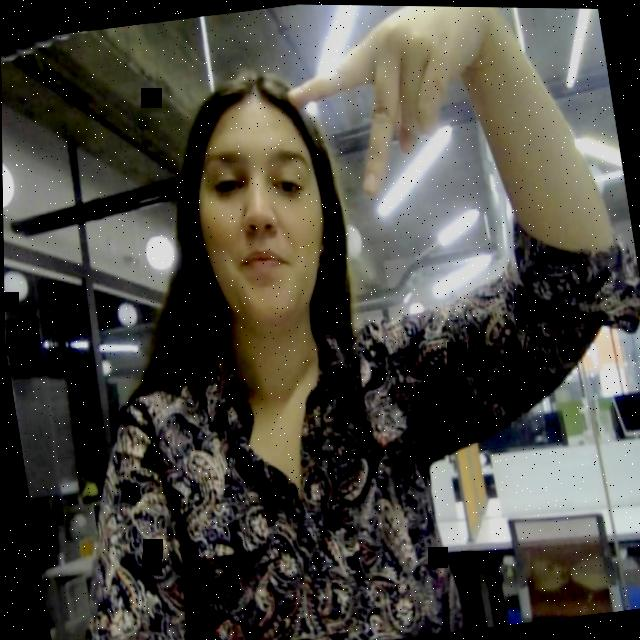Scissors: (266, 3, 516, 211)
